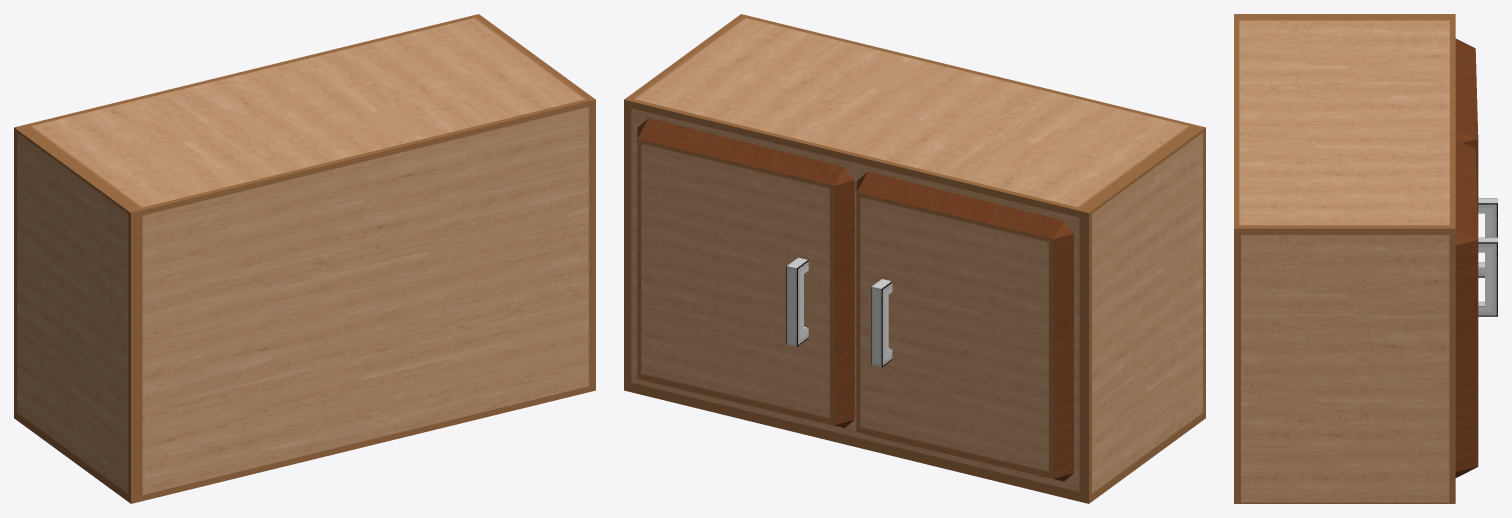
The model's file is Cupboard_Sealed.fbx.
3 views of the same model, side by side, from view 1: azimuth 30°, elevation 25°; view 2: azimuth 150°, elevation 25°; view 3: azimuth 270°, elevation 25° (orthographic). The views are drawn at different scales.
Visible parts, largest first — view 1: Cupboard_Sealed; view 2: Cupboard_Sealed; view 3: Cupboard_Sealed.
Boxes of the visible parts, <box> form: Cupboard_Sealed: <box>14,14,595,503</box>; Cupboard_Sealed: <box>624,14,1205,503</box>; Cupboard_Sealed: <box>1234,14,1497,503</box>.
Size of the model in its own units: 131 by 78.63 by 68.33.
